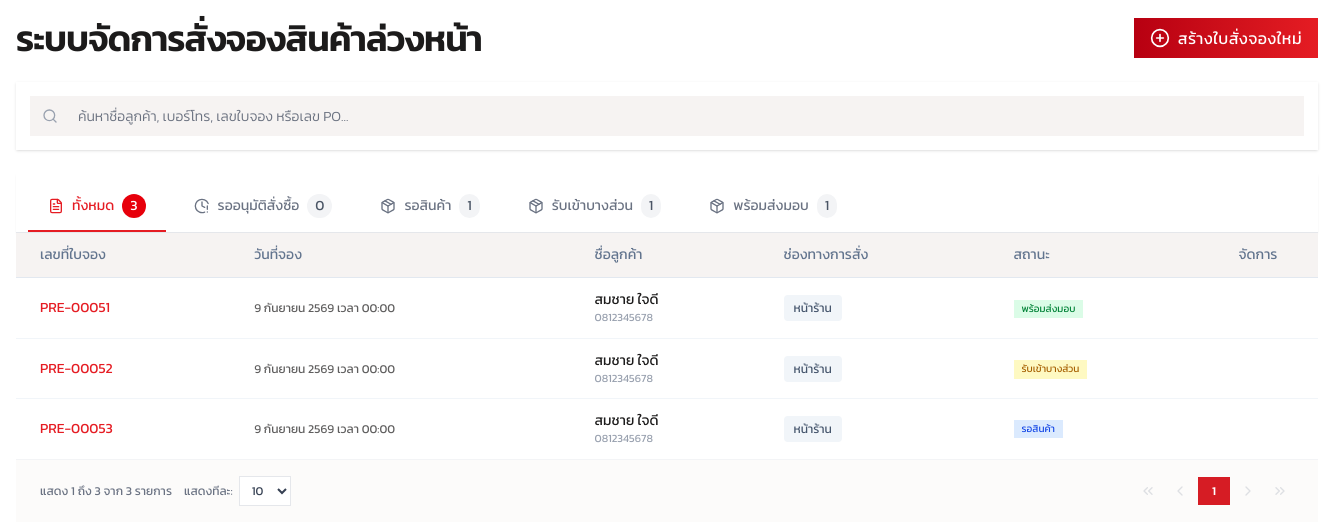
Preorder list and navigation › keeps receipt statuses separate from the approved PO waiting state
This screenshot has width=1335, height=523.
Expected: the text "PRE-00051" is shown, 40,297 -> 110,318
Expected: the number of buttons "พร้อมส่งมอบ 1" is 2, 689,182 -> 857,232; 1014,300 -> 1083,318
Click the button "รอสินค้า 1". click: (430, 207)
box: 360,182 -> 500,232
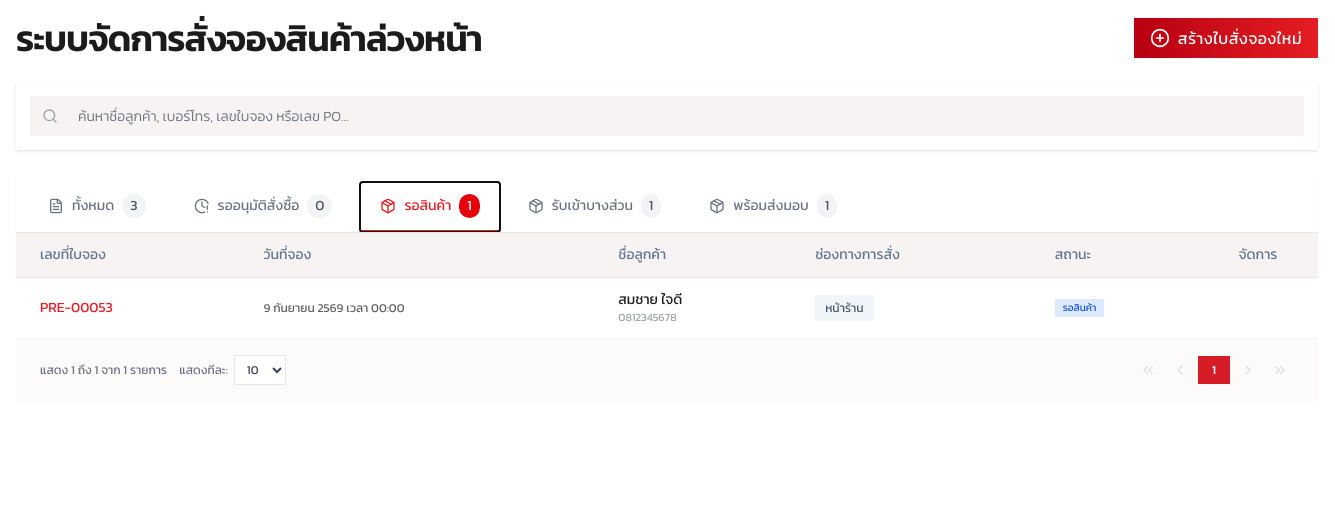
Expected: the text "PRE-00053" is shown, 40,297 -> 113,318
Expected: the text "PRE-00051" is gone
Expected: the text "PRE-00052" is gone
